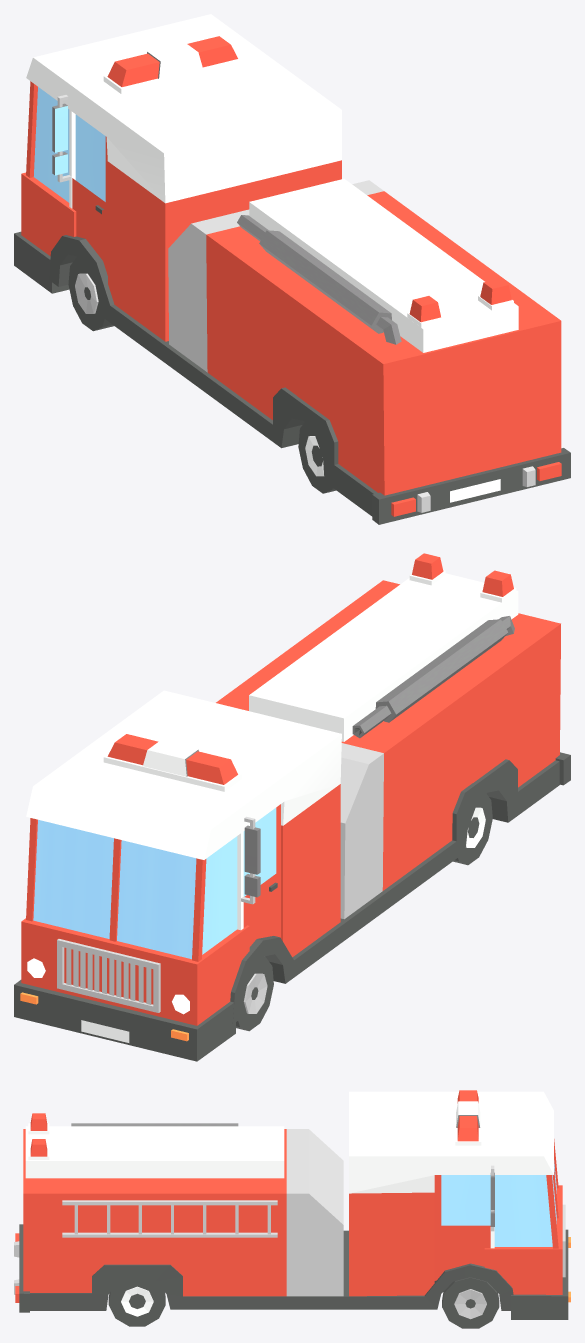
The model's file is transport_purpose.005.glb.
3 renders of one model, top to bottom at view 1: azimuth 30°, elevation 25°; view 2: azimuth 150°, elevation 25°; view 3: azimuth 270°, elevation 25°, orthographic. The views are drawn at different scales.
Visible parts, largest first — view 1: transport_purpose.005(Clone); view 2: transport_purpose.005(Clone); view 3: transport_purpose.005(Clone).
Boxes of the visible parts, box(x1,y1,x2,y2) form: transport_purpose.005(Clone): box(14, 14, 570, 524); transport_purpose.005(Clone): box(14, 553, 570, 1061); transport_purpose.005(Clone): box(14, 1090, 570, 1328).
Size of the model in its own units: 2.02 by 2.41 by 6.38.
1 material, 1 textured.
